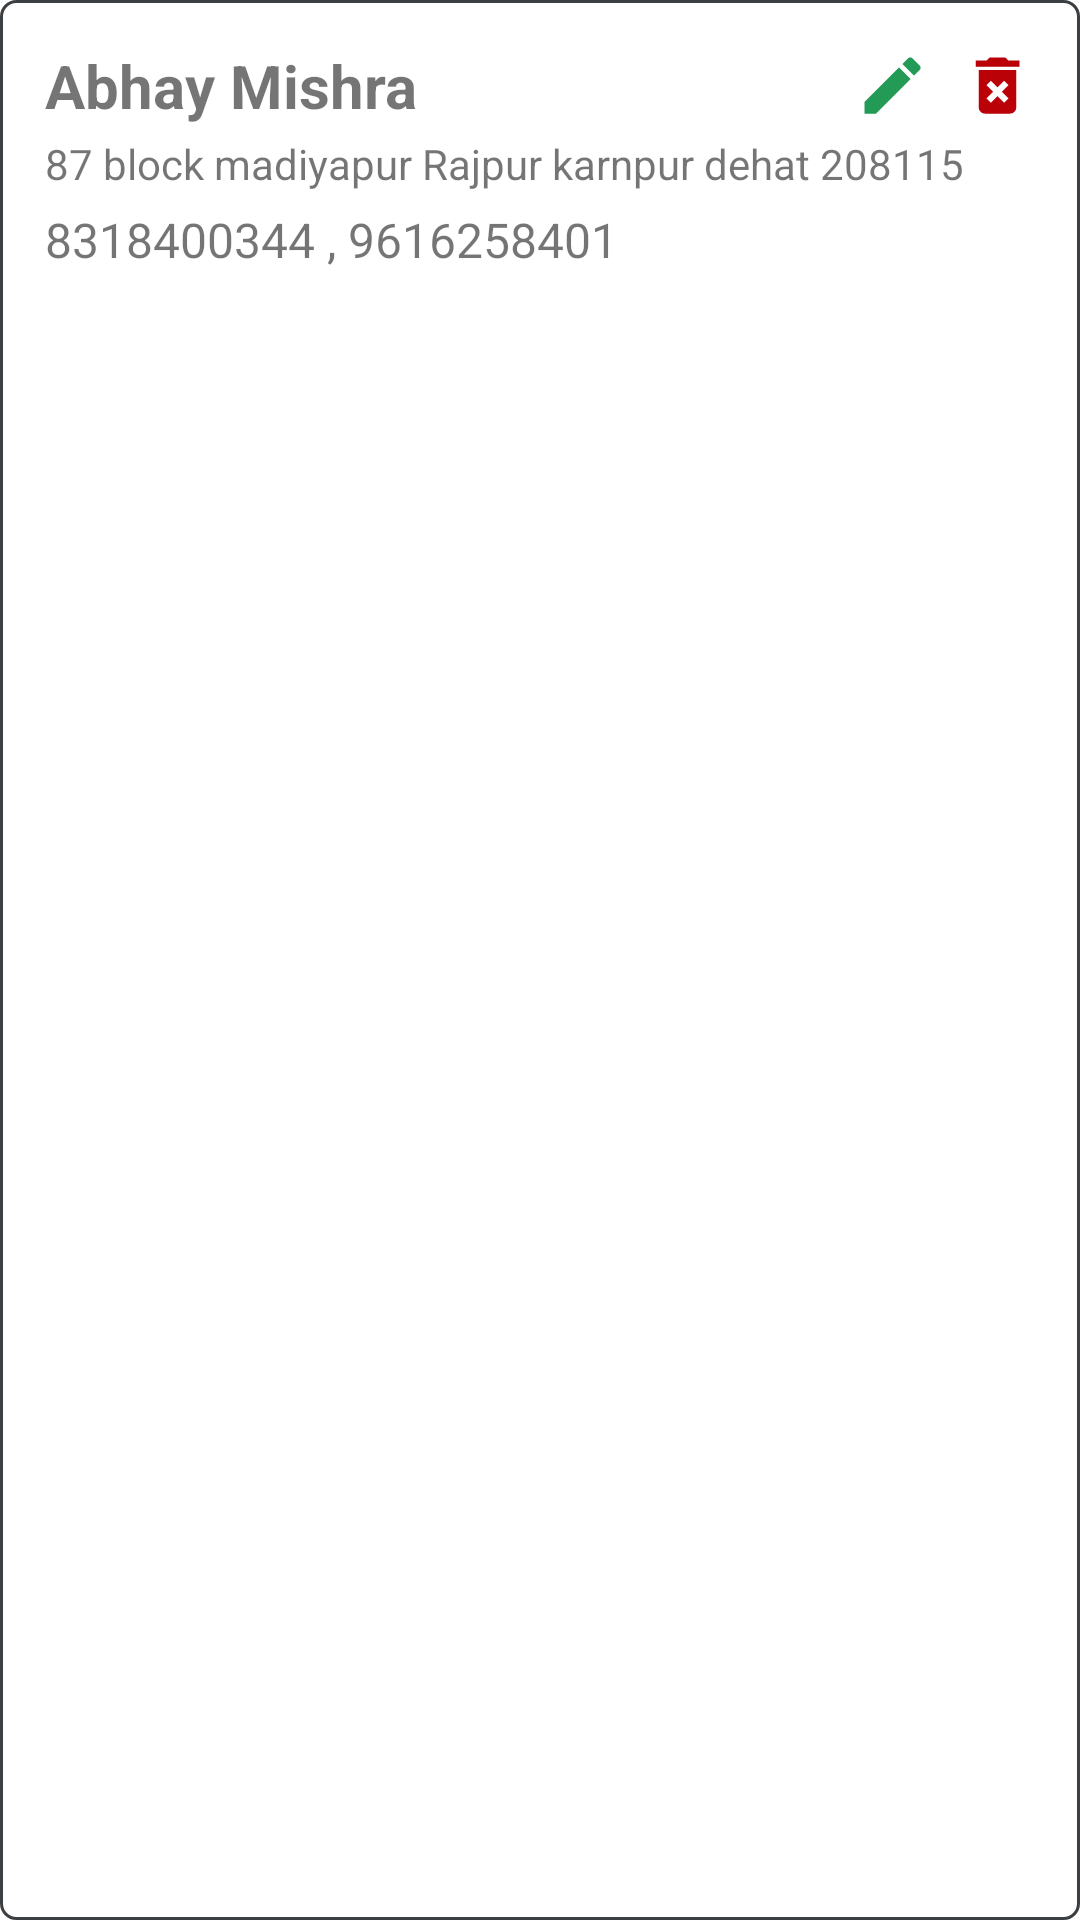

Where icons sit on this 1080w x 1920h app screen, as bbox(x1, y1, x2, y2):
delete forever: bbox(975, 57, 1020, 114)
edit: bbox(864, 57, 921, 114)
